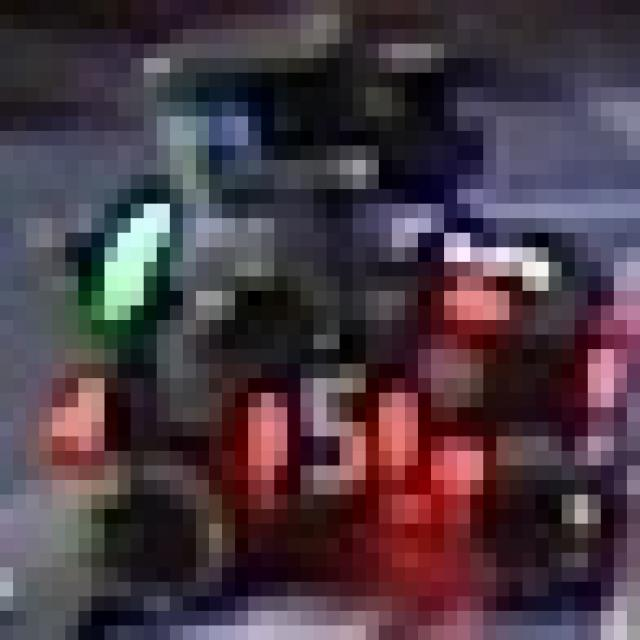R5: (235, 364, 431, 509)
